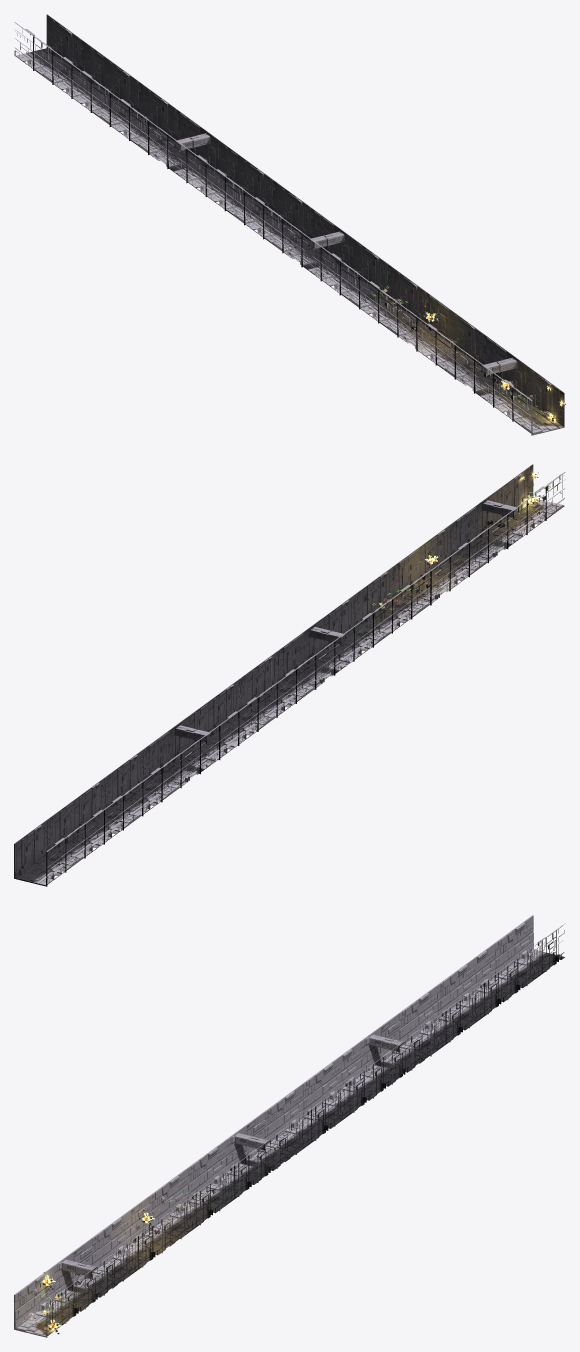
File: trench_run.glb
3 renders of one model, top to bottom at view 1: azimuth 30°, elevation 25°; view 2: azimuth 150°, elevation 25°; view 3: azimuth 330°, elevation 25°, orthographic.
Visible parts, largest first — view 1: trench_3.003, trench_3.000, trench_3.002, trench_1, trench_1.004, trench_1.002, trench_1.003, trench_1.012, trench_1.007, trench_1.001, trench_1.008, trench_1.005 (+15 smaller); view 2: trench_3.003, trench_3.000, trench_3.002, trench_2.014, trench_1.004, trench_1.008, trench_1.007, trench_1.003, trench_1.012, trench_2.003, trench_4.007, trench_1.001 (+15 smaller); view 3: trench_3.003, trench_3.002, trench_3.000, trench_1, trench_1.012, trench_1.003, trench_1.008, trench_1.002, trench_1.001, trench_2.003, trench_2.009, trench_2.014 (+15 smaller).
Boxes of the visible parts, left/top/right/bottom form: trench_3.003: left=302, top=224, right=353, bottom=281; trench_3.000: left=167, top=126, right=219, bottom=183; trench_3.002: left=474, top=351, right=525, bottom=407; trench_1: left=512, top=379, right=564, bottom=435; trench_1.004: left=436, top=323, right=487, bottom=379; trench_1.002: left=91, top=70, right=142, bottom=126; trench_1.003: left=129, top=98, right=180, bottom=154; trench_1.012: left=33, top=28, right=84, bottom=84; trench_1.007: left=263, top=196, right=314, bottom=253; trench_1.001: left=225, top=168, right=276, bottom=225; trench_1.008: left=340, top=252, right=391, bottom=309; trench_1.005: left=378, top=281, right=429, bottom=337; trench_3.003: left=302, top=619, right=353, bottom=675; trench_3.000: left=168, top=717, right=219, bottom=774; trench_3.002: left=475, top=492, right=526, bottom=548; trench_2.014: left=14, top=830, right=65, bottom=886; trench_1.004: left=437, top=520, right=488, bottom=577; trench_1.008: left=341, top=591, right=392, bottom=647; trench_1.007: left=264, top=647, right=315, bottom=703; trench_1.003: left=129, top=745, right=181, bottom=802; trench_1.012: left=33, top=816, right=85, bottom=872; trench_2.003: left=110, top=759, right=161, bottom=816; trench_4.007: left=283, top=633, right=334, bottom=689; trench_1.001: left=225, top=675, right=277, bottom=731; trench_3.003: left=225, top=1126, right=277, bottom=1182; trench_3.002: left=52, top=1252, right=104, bottom=1309; trench_3.000: left=360, top=1027, right=411, bottom=1084; trench_1: left=14, top=1281, right=65, bottom=1337; trench_1.012: left=494, top=929, right=546, bottom=985; trench_1.003: left=398, top=999, right=450, bottom=1056; trench_1.008: left=187, top=1154, right=238, bottom=1210; trench_1.002: left=437, top=971, right=488, bottom=1028; trench_1.001: left=302, top=1070, right=353, bottom=1126; trench_2.003: left=418, top=985, right=469, bottom=1042; trench_2.009: left=206, top=1140, right=257, bottom=1196; trench_2.014: left=514, top=915, right=565, bottom=971.
Size of the model in its own units: 3.11 by 3.1 by 76.16.
Materials: 30 (27 with a texture image).
